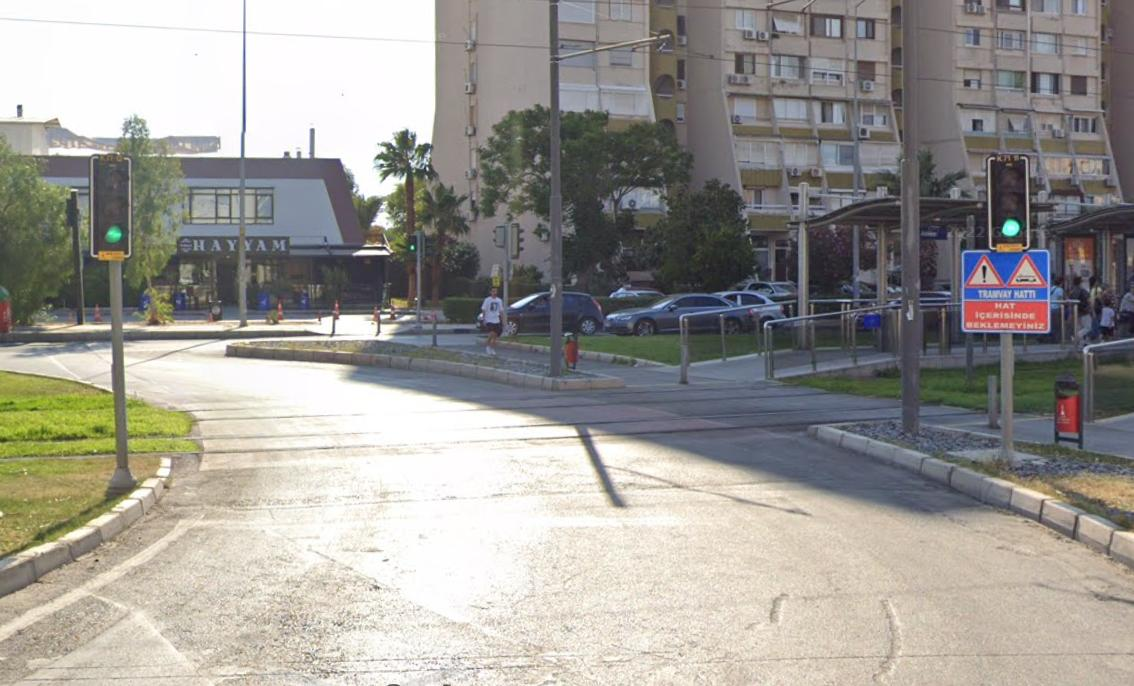greenlight: (90, 153, 133, 261), (986, 155, 1032, 249)
